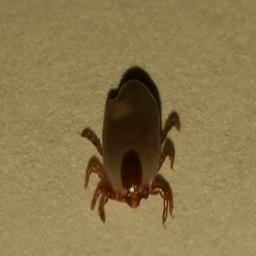Rhipicephalus sanguineus: (80, 79, 179, 228)
